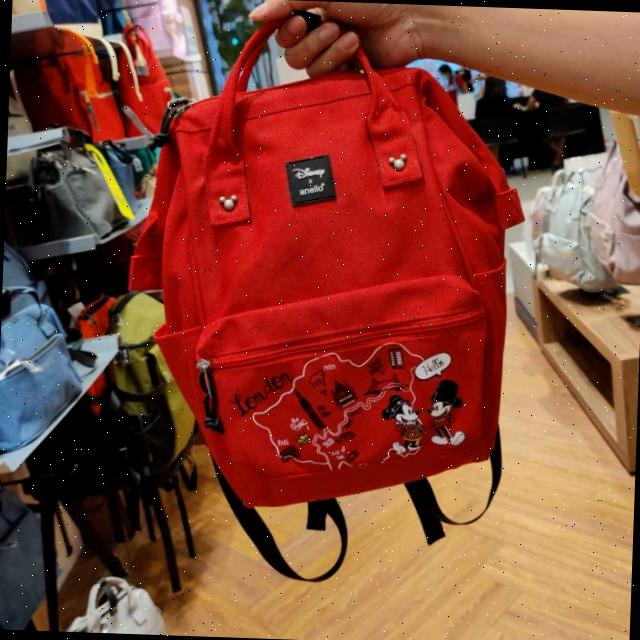Handbag: (122, 1, 517, 516)
